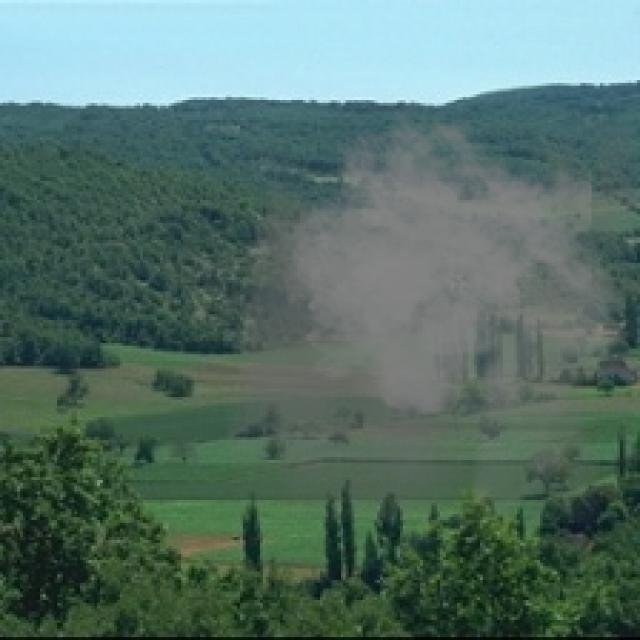Smoke: (225, 108, 638, 523)
